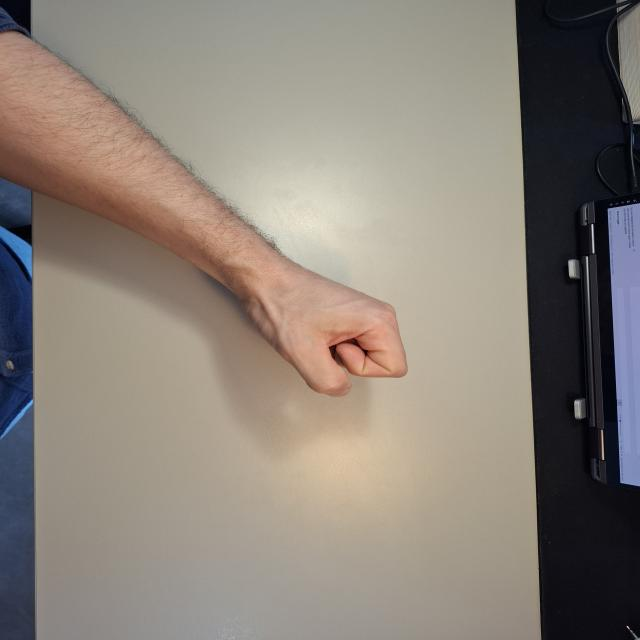glove_off: (230, 259, 412, 399)
